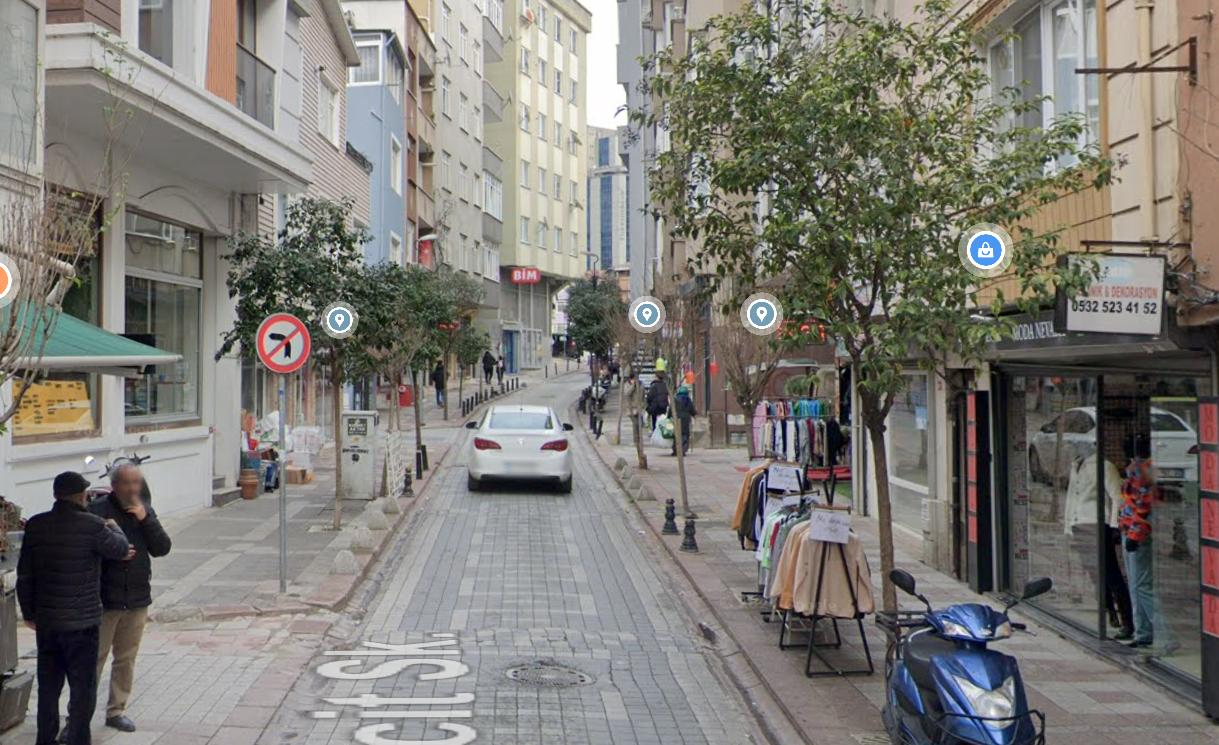leftturnsareforbidden: (255, 313, 314, 374)
